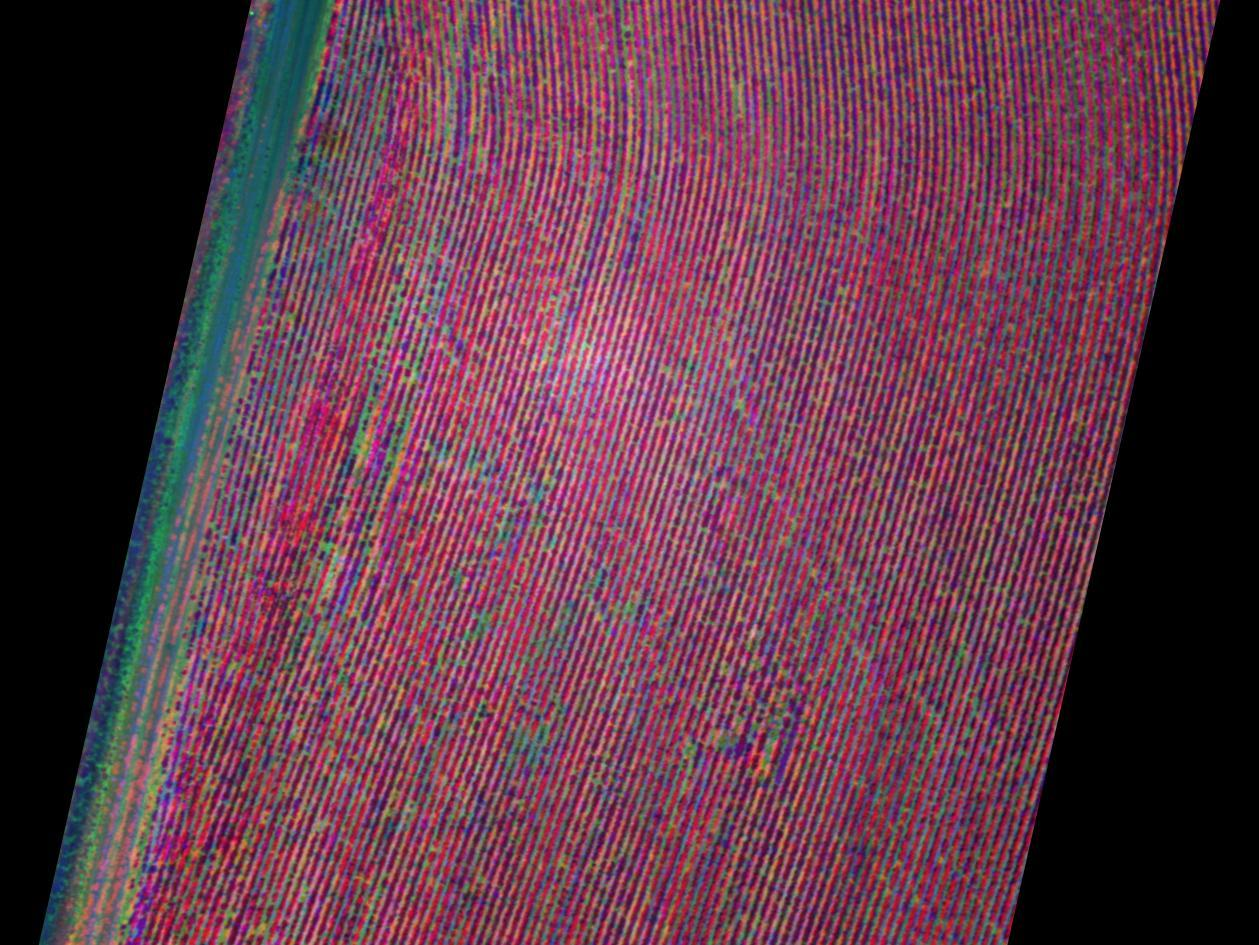dc: (308, 470, 371, 606), (702, 685, 794, 767), (506, 666, 574, 770)
